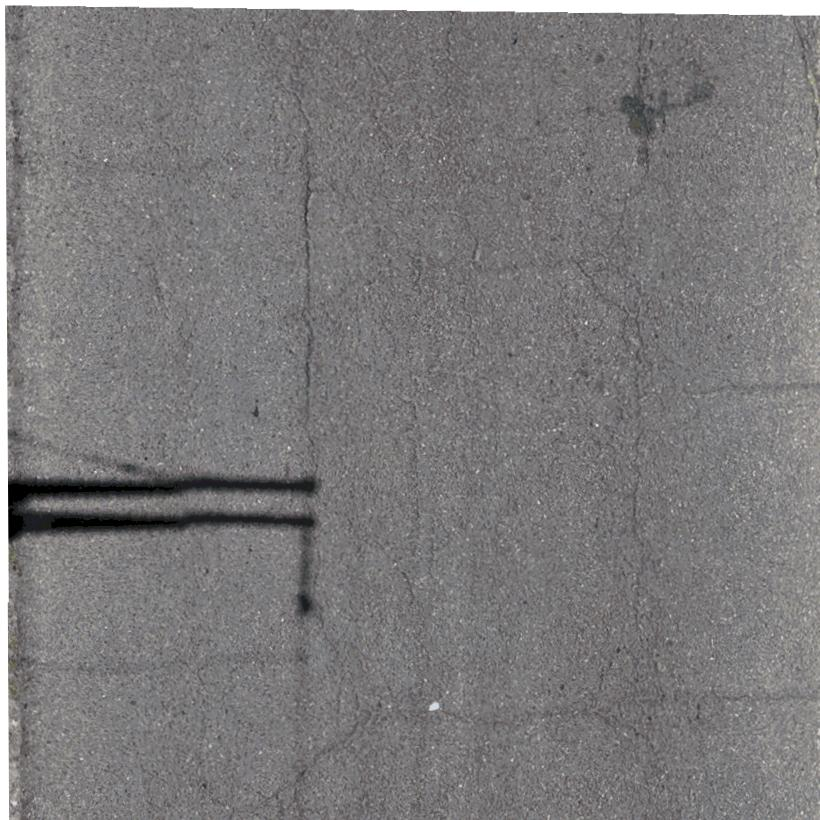GRIETA: (257, 719, 361, 808), (295, 156, 313, 399), (794, 21, 819, 191), (274, 50, 312, 154), (632, 14, 652, 174), (632, 477, 653, 600), (703, 383, 819, 396), (302, 391, 316, 446)
PIEL DE COCODRILO: (567, 211, 706, 478), (334, 188, 489, 426), (307, 487, 462, 721), (584, 598, 738, 819)
